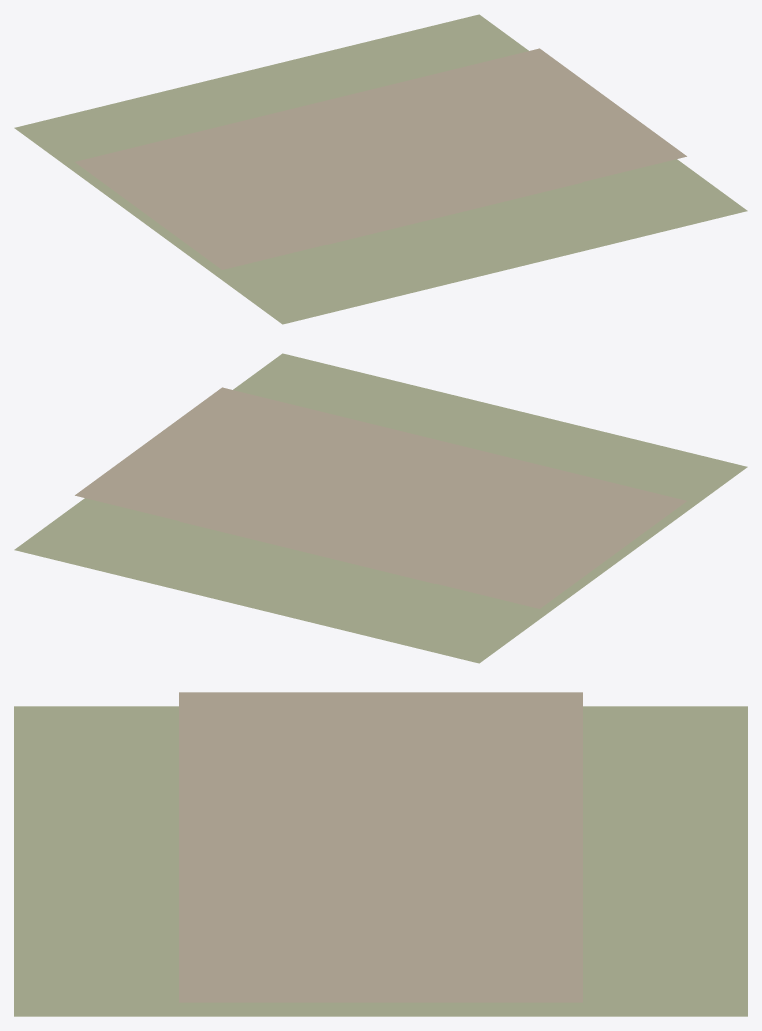
3 views of the same model, one above another, from view 1: azimuth 30°, elevation 25°; view 2: azimuth 150°, elevation 25°; view 3: azimuth 270°, elevation 25° (orthographic). The views are drawn at different scales.
Parts seen in each view (by area): view 1: Near; view 2: Near; view 3: Near.
Boxes of the visible parts, bbox=[...] form: Near: bbox=[14, 14, 747, 324]; Near: bbox=[14, 353, 747, 663]; Near: bbox=[14, 692, 747, 1016].
Bounding box in the file's own units: 1 × 0.021 × 1.
